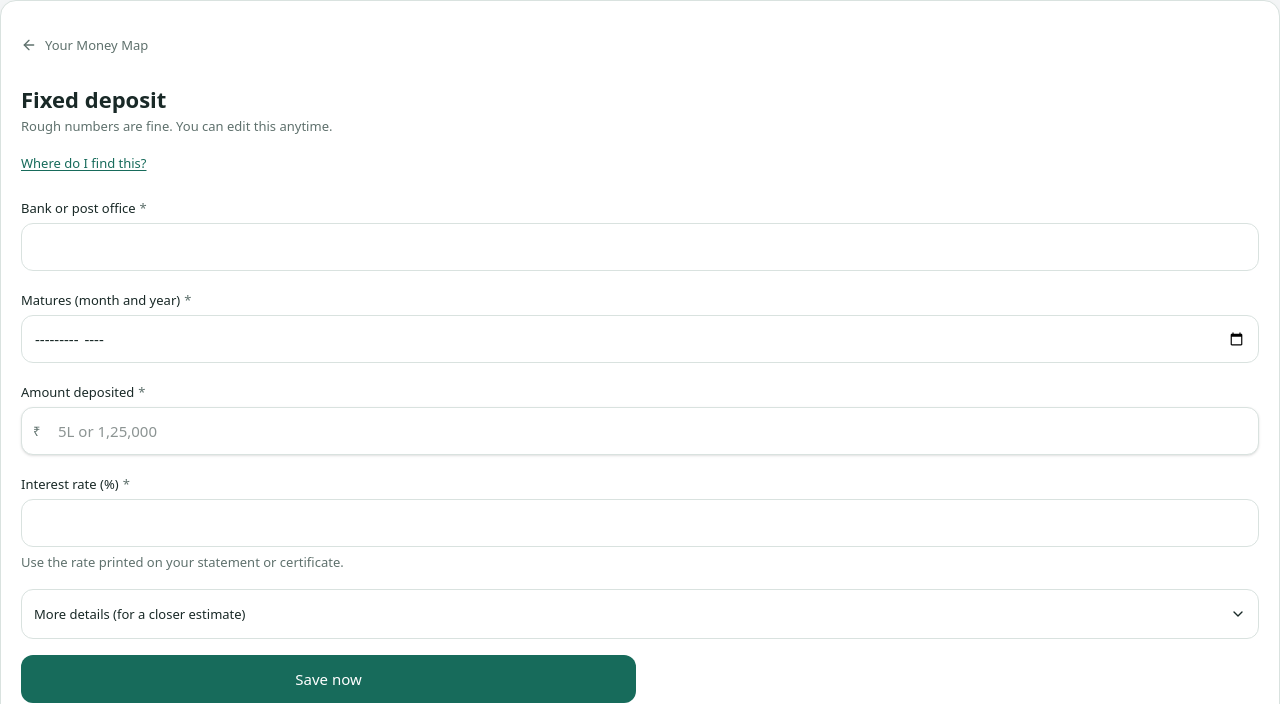
Test case: asset forms and autosave › posts a valid fixed deposit after the debounce and shows valuation
Type "Demo Bank" into the field labelled "Bank or post office*". click: [640, 247]
box: x1=21 y1=223 x2=1259 y2=271
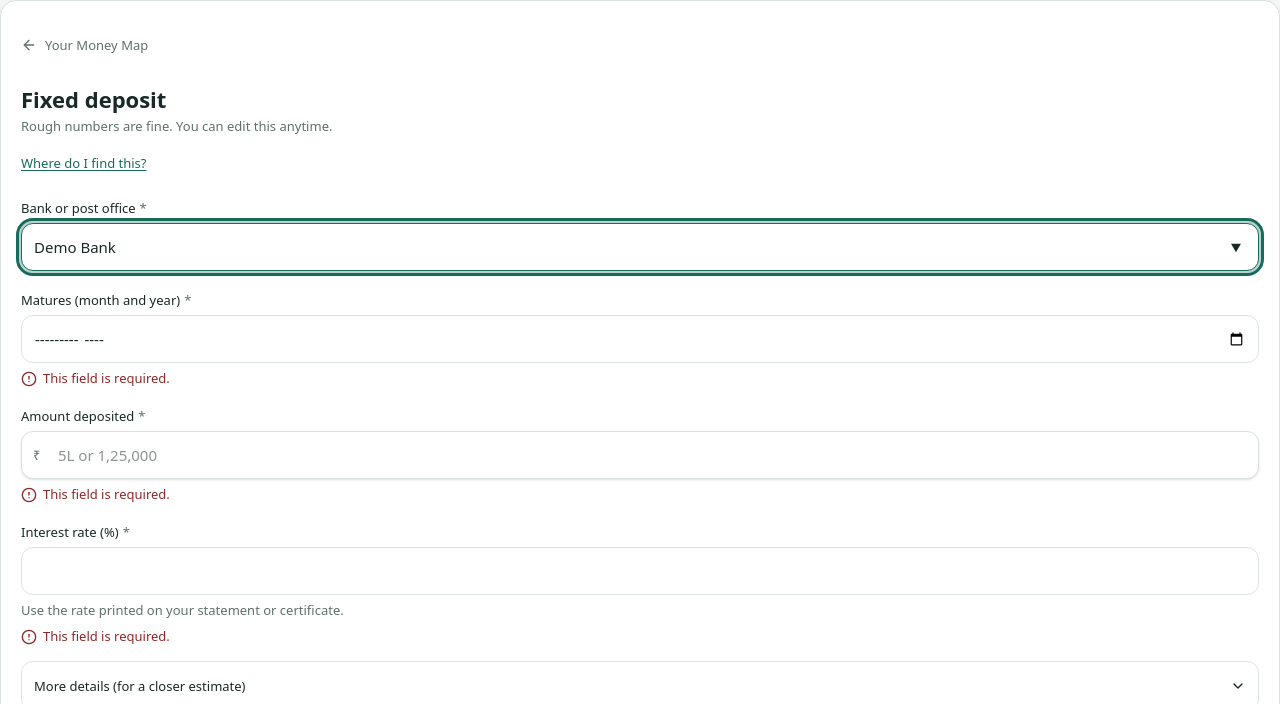
Type "5L" into the field labelled "Amount deposited*". click: [640, 455]
box: x1=21 y1=431 x2=1259 y2=479
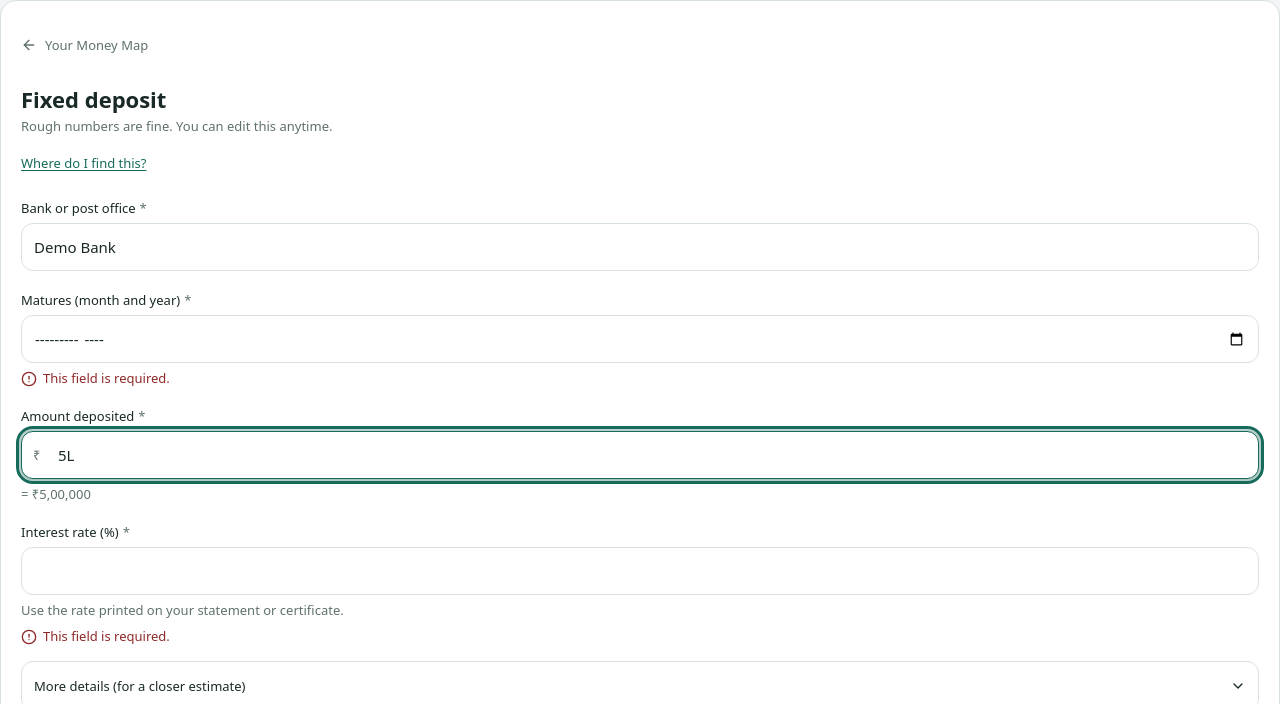
Type "7.10" into the field labelled "Interest rate (%)*". click: [640, 571]
box: x1=21 y1=547 x2=1259 y2=595
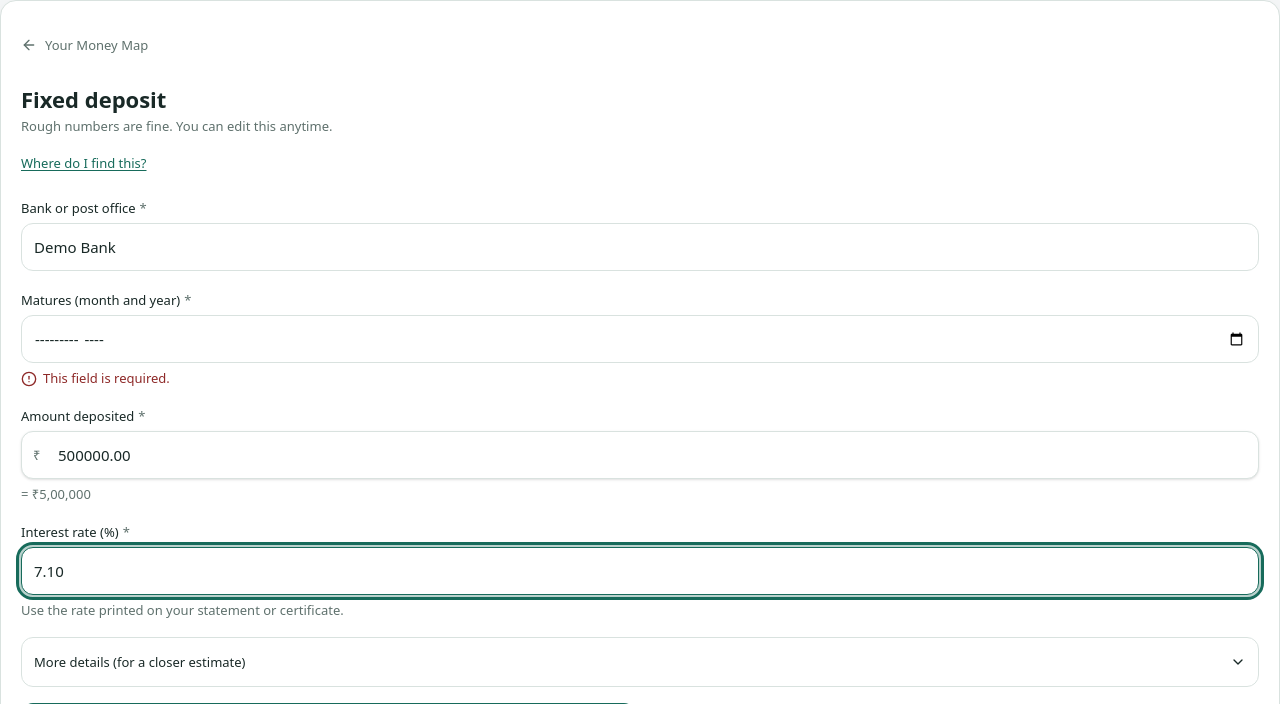
Type "2027-03" into the field labelled "Matures (month and year)*". click: [640, 339]
box: x1=21 y1=315 x2=1259 y2=363
(page scrolled)
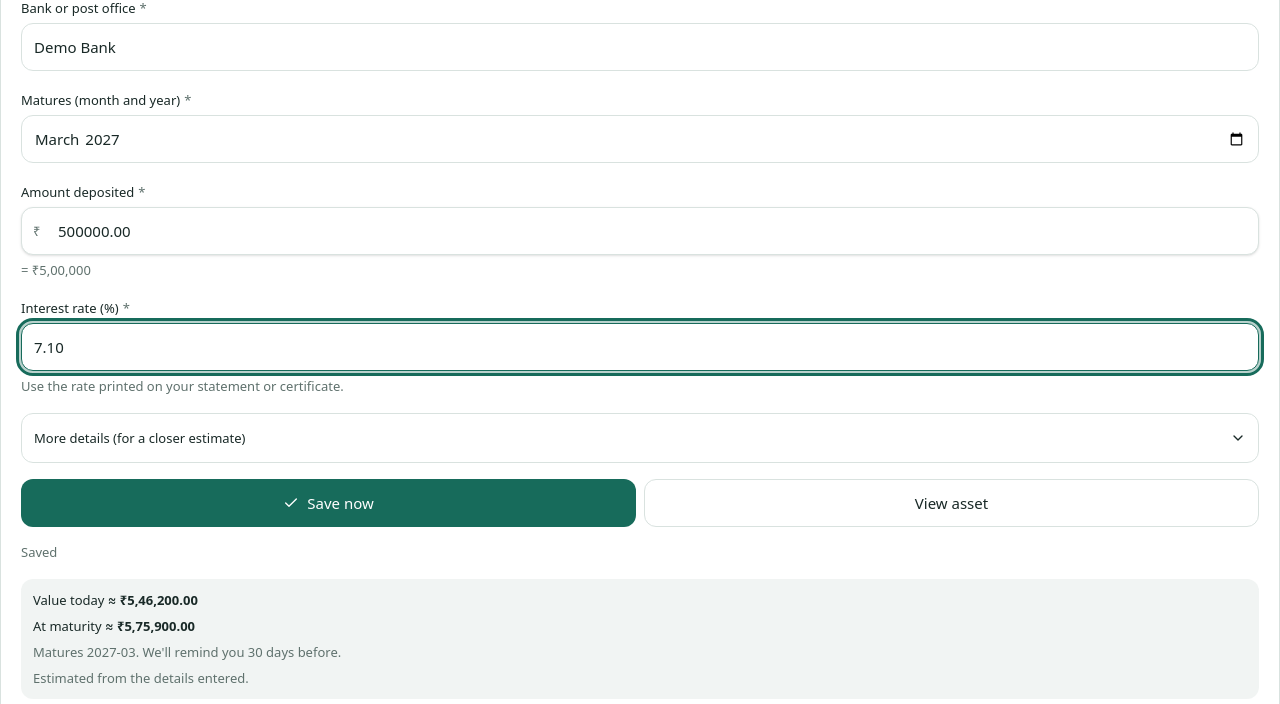
Result: the text "Value today ≈ ₹5,46,200.00" is shown at x1=33 y1=591 x2=198 y2=609
Result: the text "At maturity ≈ ₹5,75,900.00" is shown at x1=33 y1=617 x2=195 y2=635
Result: the text "Saved" is shown at x1=21 y1=543 x2=57 y2=561
